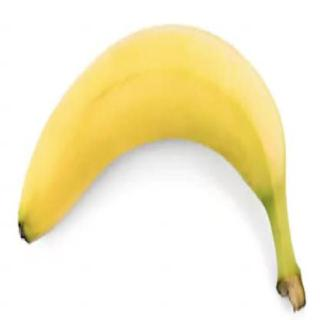banana: (16, 21, 288, 248)
